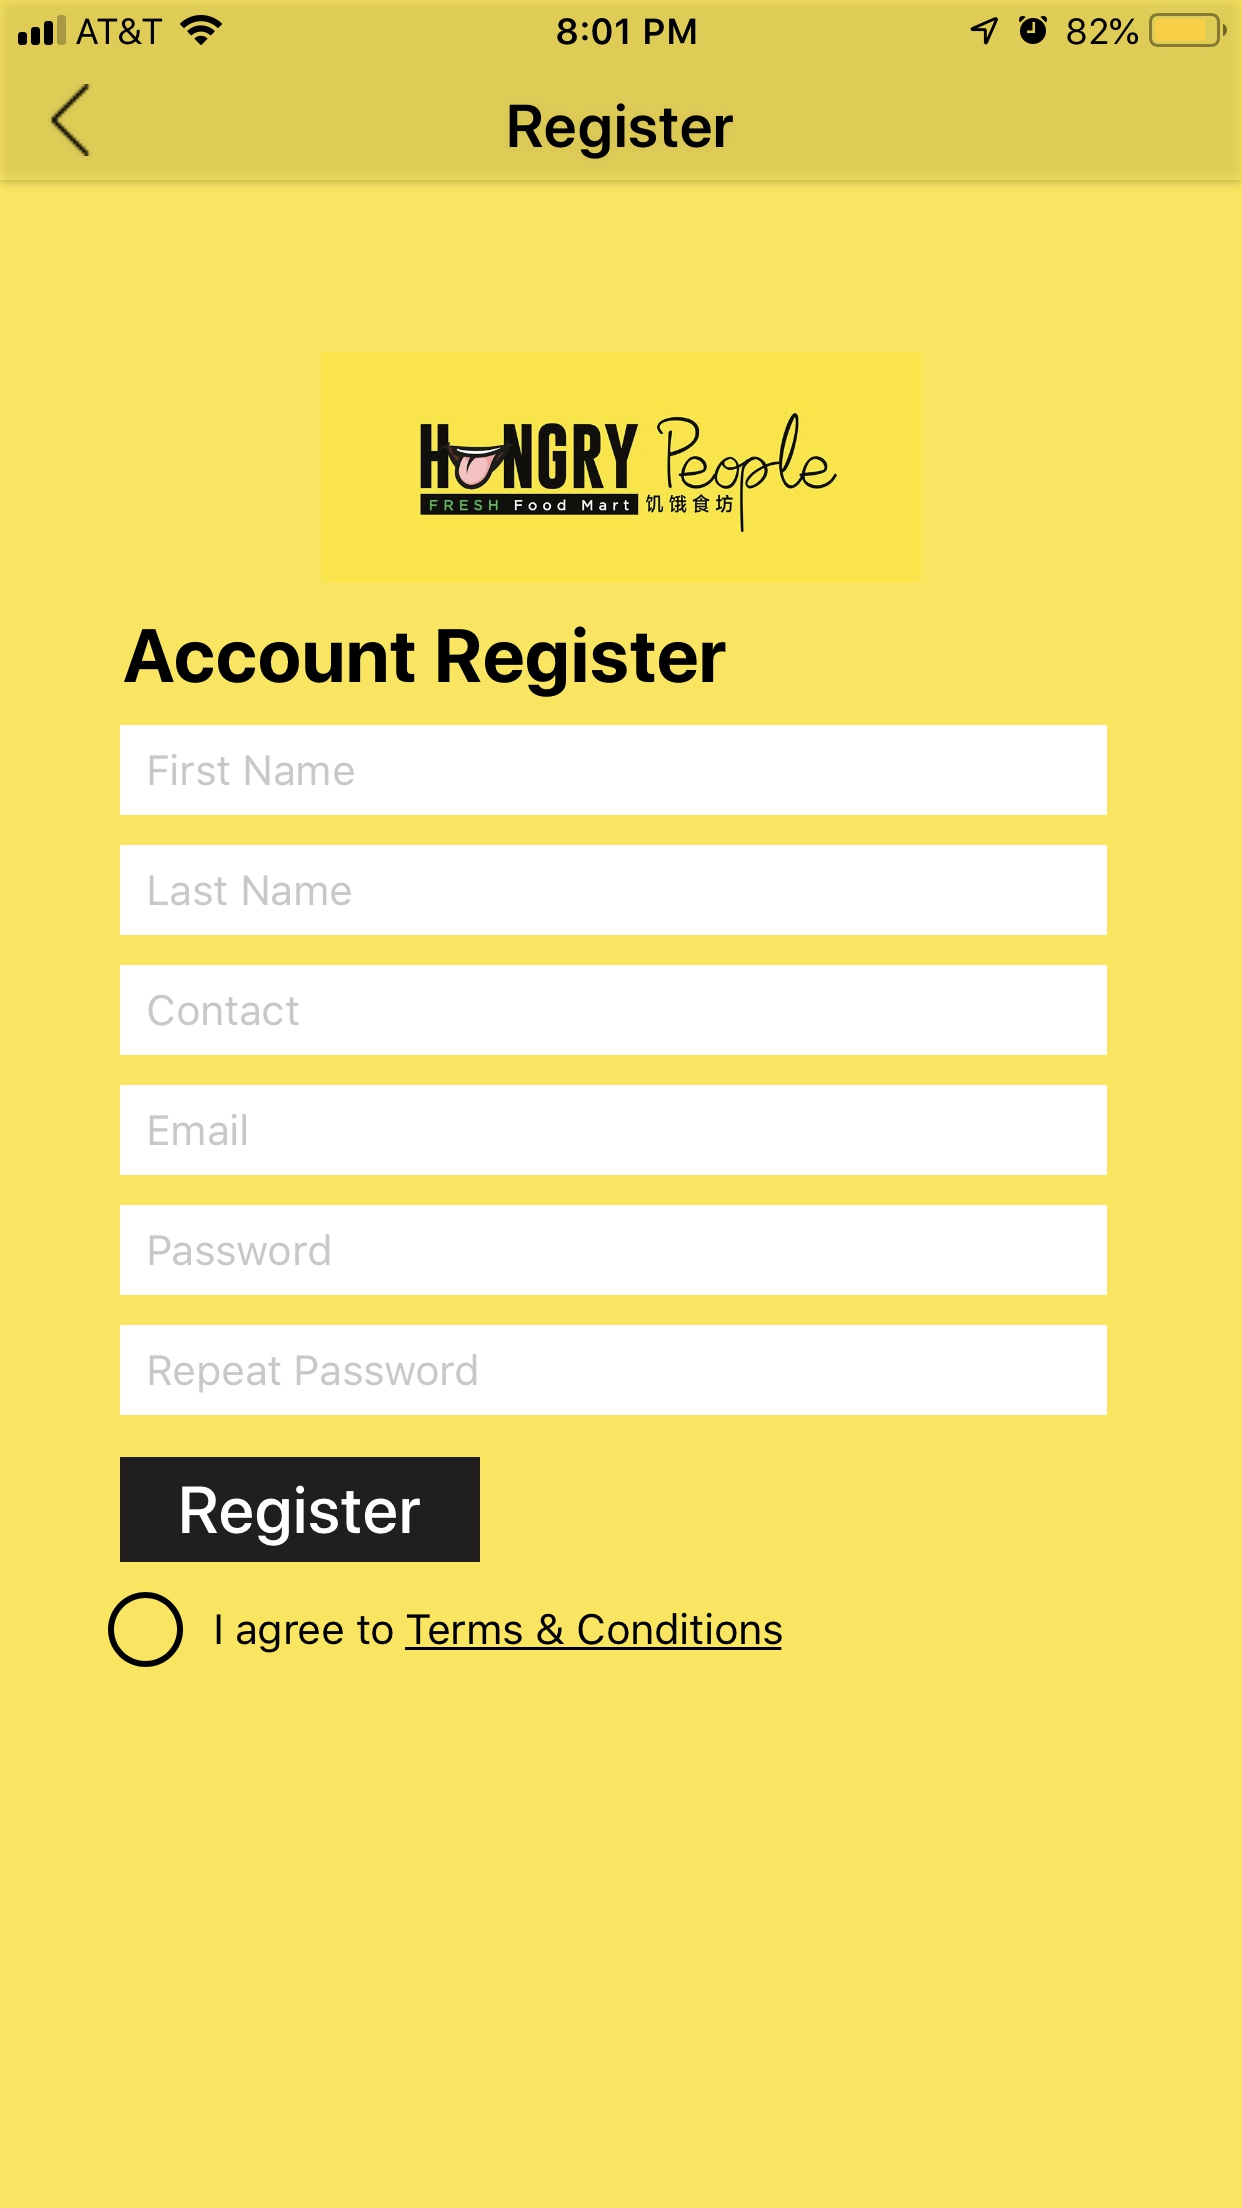CheckedTextView: (108, 1591, 783, 1668)
EditText: (121, 725, 1109, 816), (121, 845, 1109, 936), (121, 964, 1109, 1055), (121, 1084, 1109, 1175), (117, 1325, 1104, 1416), (121, 1206, 1107, 1297)
Icon: (52, 83, 91, 158)
Image: (420, 411, 839, 534)
Text: (124, 626, 726, 699), (215, 1612, 783, 1654), (150, 1354, 479, 1394), (510, 105, 734, 161), (150, 754, 355, 787), (150, 875, 352, 907), (149, 1234, 331, 1266), (149, 993, 300, 1027), (150, 1115, 247, 1146)
TextButton: (120, 1457, 481, 1563)
UpperTaskBar: (2, 2, 1242, 50)
